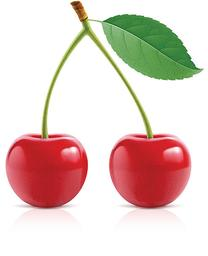cherry: (5, 133, 88, 208), (108, 134, 192, 208)
